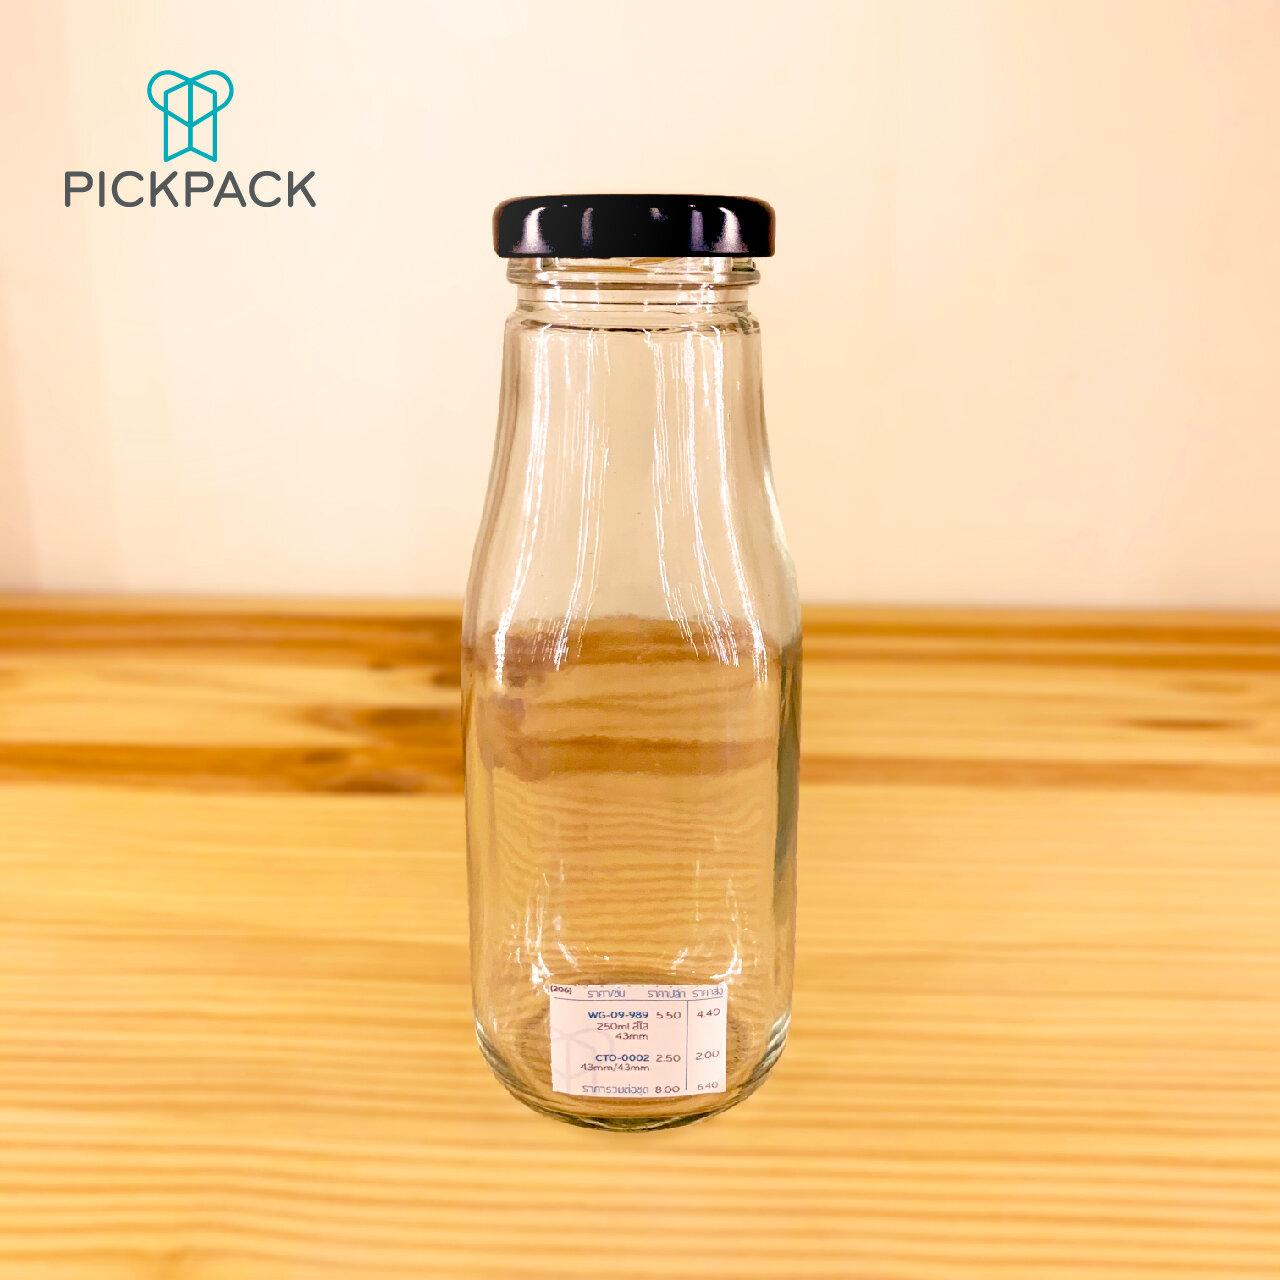glass_bottle: (429, 171, 833, 1152)
